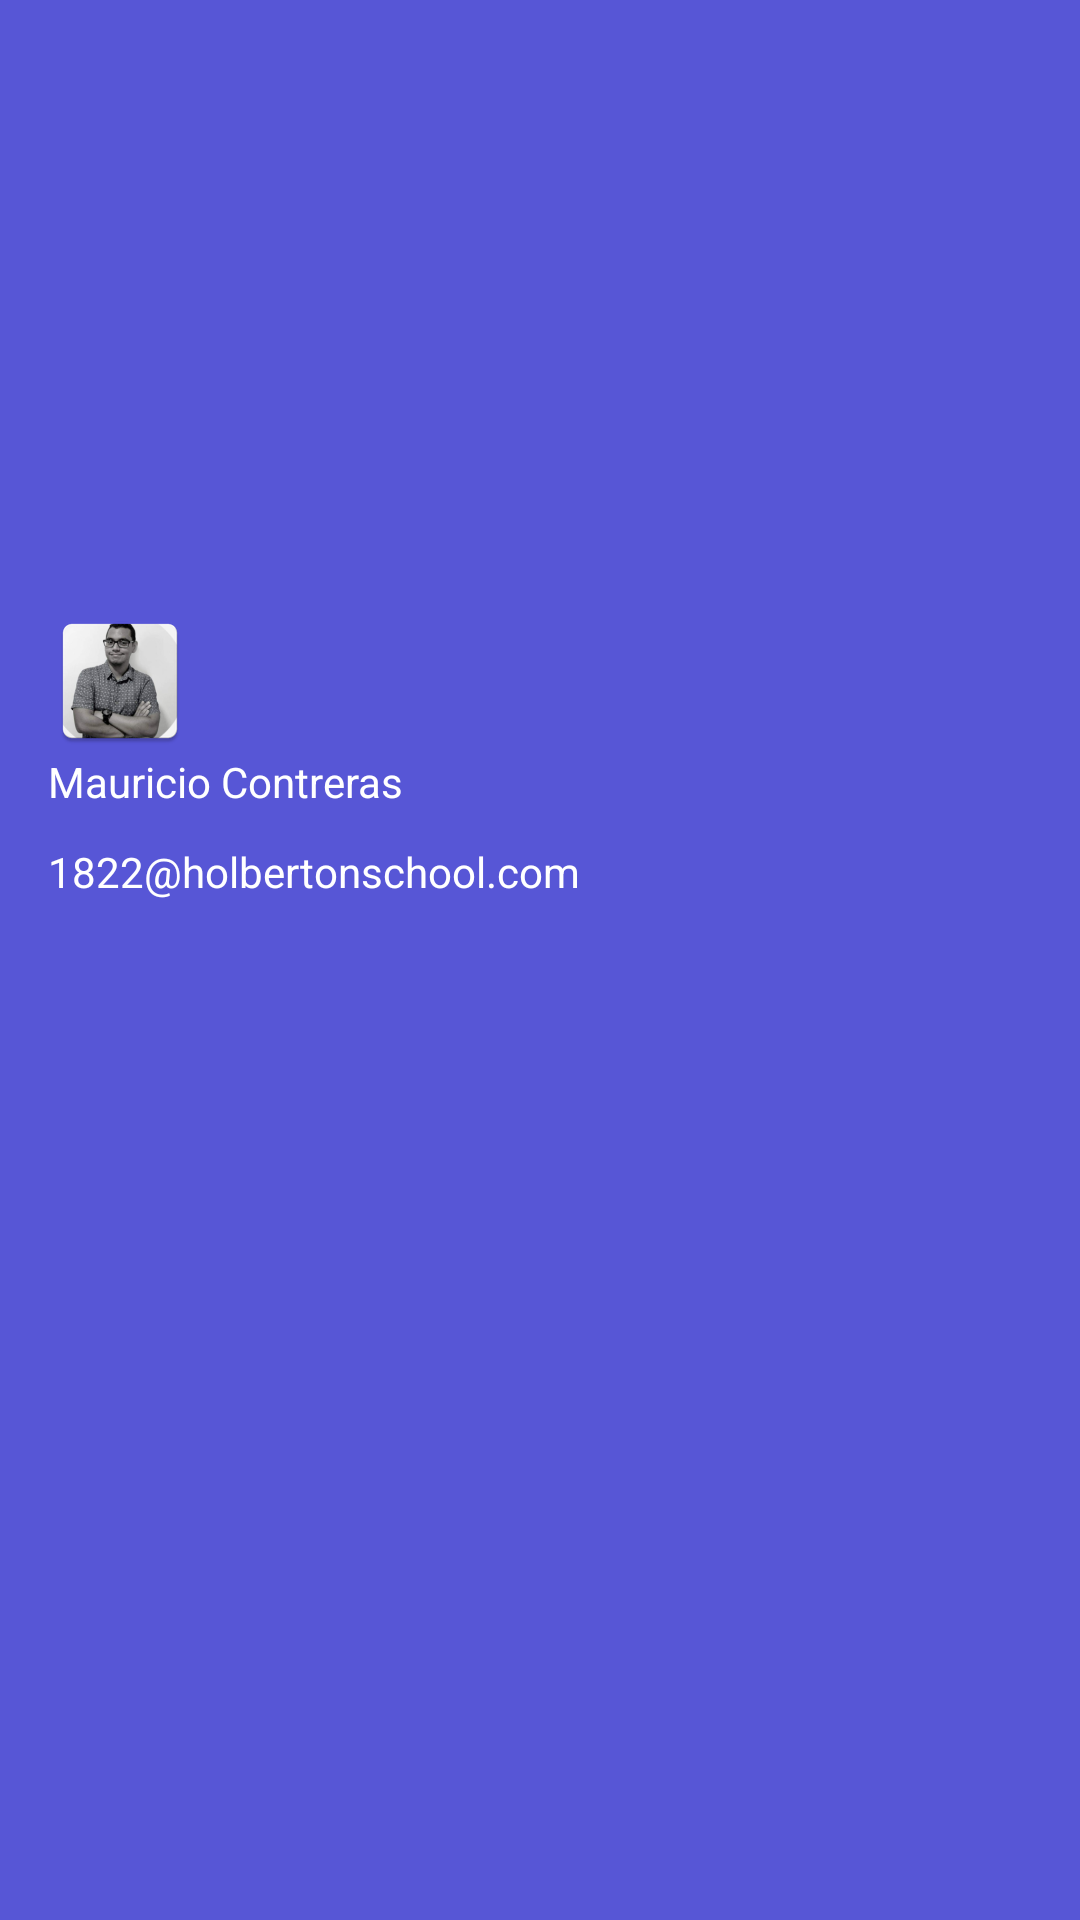

Icon bounding boxes for this 1080×1920 phone screenshot, format (x1, y1, x2, y2):
Imagen de perfil: (63, 623, 178, 741)
